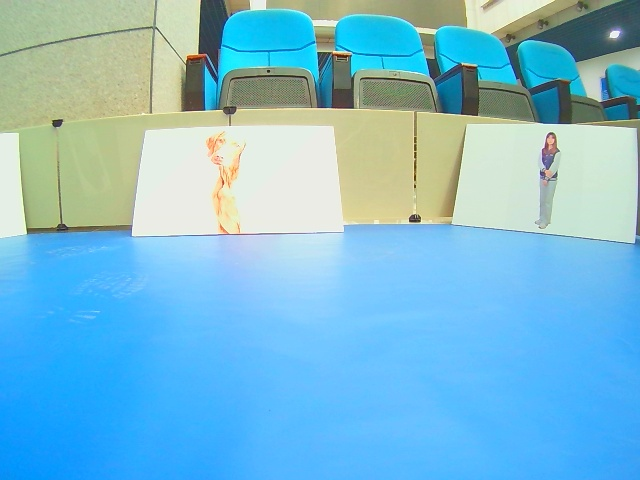person: (450, 122, 637, 244)
pet: (130, 127, 346, 237)
